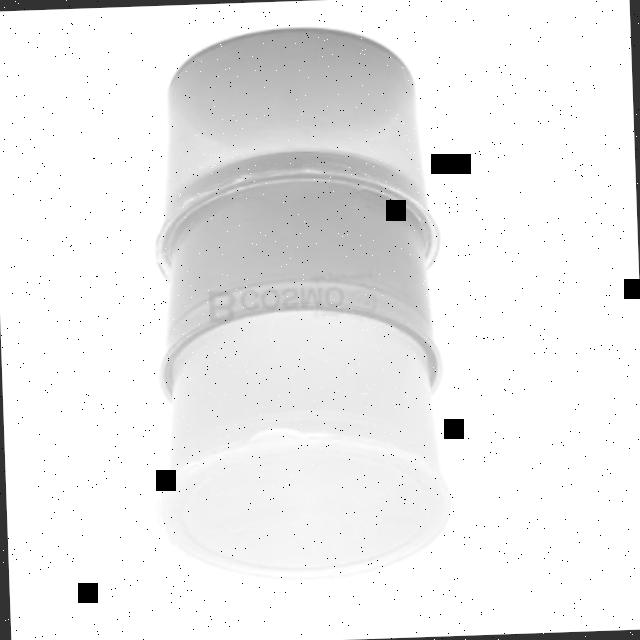plastic_box: (136, 23, 442, 583)
